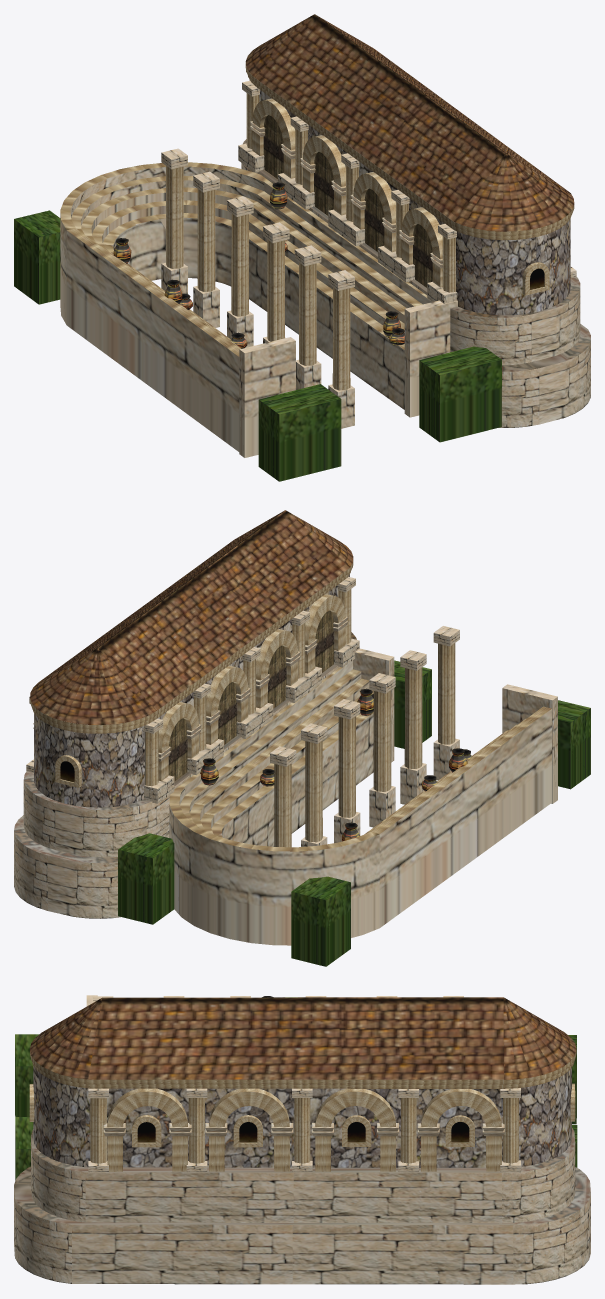
The model's file is stadium.dae.
3 views of the same model, one above another, from view 1: azimuth 30°, elevation 25°; view 2: azimuth 150°, elevation 25°; view 3: azimuth 270°, elevation 25° (orthographic). The views are drawn at different scales.
Visible parts, largest first — view 1: stadium; view 2: stadium; view 3: stadium.
Boxes of the visible parts, x1,y1,x2,y2 form: stadium: (14, 14, 590, 481); stadium: (14, 510, 590, 966); stadium: (14, 995, 590, 1284).
Size of the model in its own units: 23.79 by 33.36 by 16.03.
